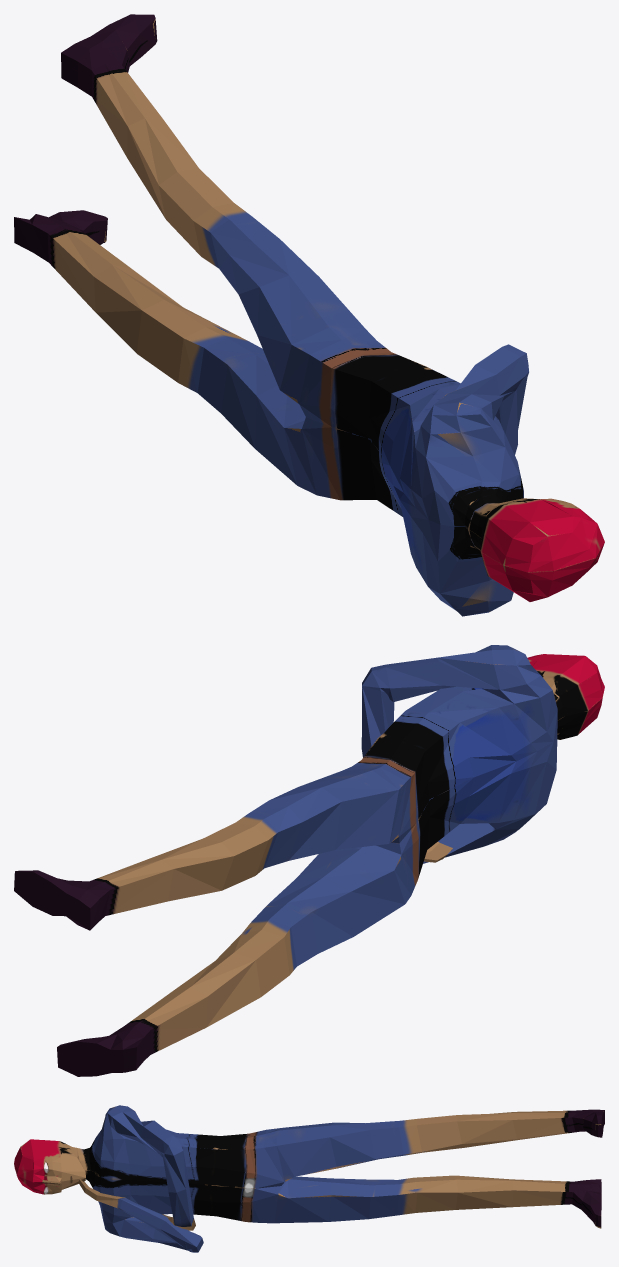
File: mirrorman_000030.obj
3 renders of one model, top to bottom at view 1: azimuth 30°, elevation 25°; view 2: azimuth 150°, elevation 25°; view 3: azimuth 270°, elevation 25°, orthographic. The views are drawn at different scales.
Parts seen in each view (by area): view 1: mirrorman_Cube.001_Material.001; view 2: mirrorman_Cube.001_Material.001; view 3: mirrorman_Cube.001_Material.001.
Boxes of the visible parts, left/top/right/bottom form: mirrorman_Cube.001_Material.001: left=14, top=14, right=604, bottom=616; mirrorman_Cube.001_Material.001: left=14, top=645, right=604, bottom=1076; mirrorman_Cube.001_Material.001: left=14, top=1105, right=604, bottom=1252.
Size of the model in its own units: 0.3576 by 0.5187 by 1.9.
